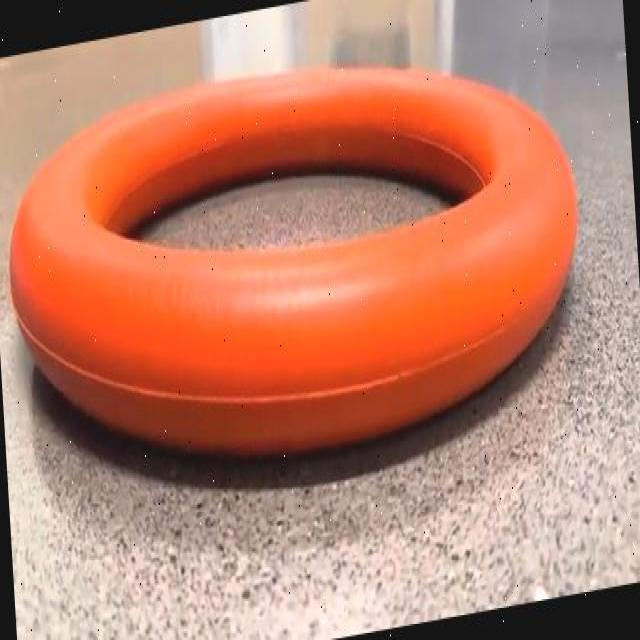note: (11, 69, 577, 454)
